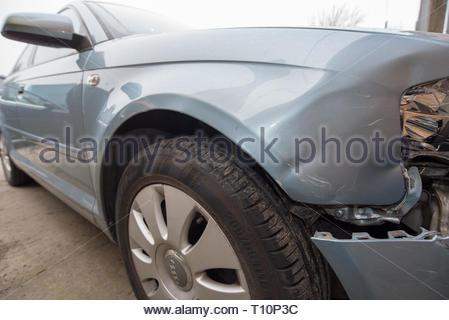front-bumper-dent: (279, 181, 448, 319)
